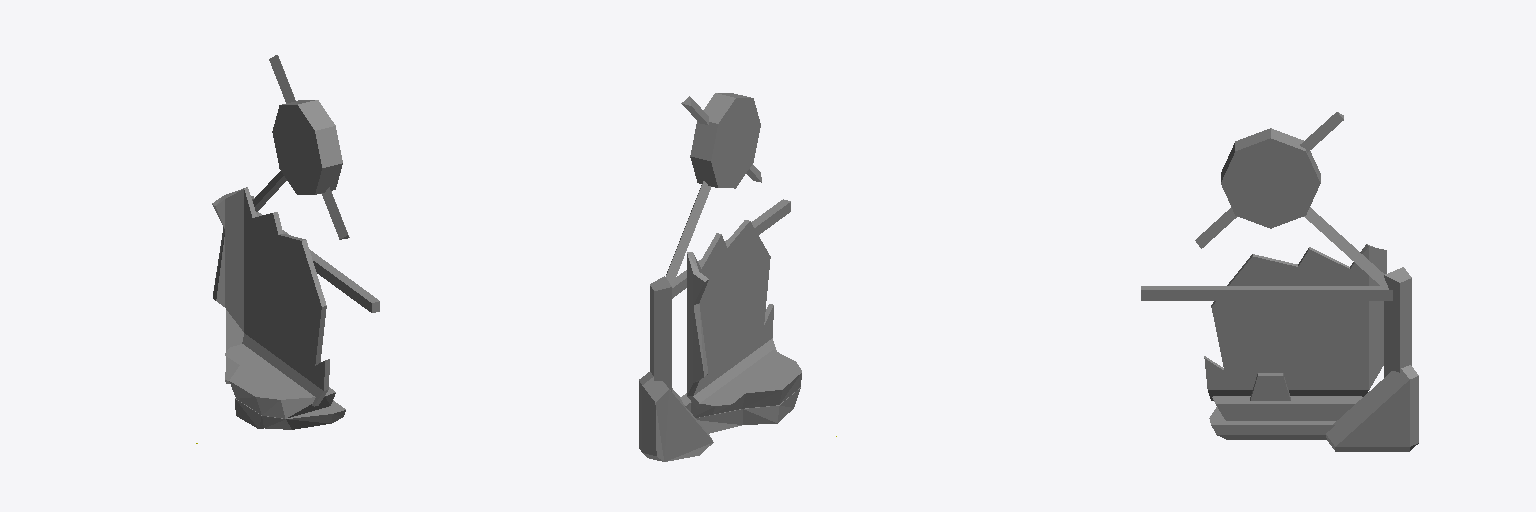
The model's file is cpz_obj_breakboxtall_brk_002.obj.
3 views of the same model, side by side, from view 1: azimuth 30°, elevation 25°; view 2: azimuth 150°, elevation 25°; view 3: azimuth 270°, elevation 25° (orthographic).
Parts seen in each view (by area): view 1: cpz_glass_tn1_glasstube, cpz_metal_yy_slop_cmn_dpn, cpz_yy1_road_cmn_dp; view 2: cpz_metal_yy_slop_cmn_dpn, cpz_glass_tn1_glasstube, cpz_yy1_road_cmn_dp, cpz_metal_st1_tank01_cmn_dpnE; view 3: cpz_glass_tn1_glasstube, cpz_metal_yy_slop_cmn_dpn, cpz_yy1_road_cmn_dp, ccp_metal_yy_circle_Cmn_dpn, ccp_metal_yy_yelow_Cmn_dpn, cpz_metal_st1_tank01_cmn_dpnE.
Part boxes in pixels (bbox=[...]): cpz_glass_tn1_glasstube: bbox=[212, 187, 329, 406]; cpz_metal_yy_slop_cmn_dpn: bbox=[225, 105, 348, 429]; cpz_yy1_road_cmn_dp: bbox=[253, 55, 379, 312]; cpz_metal_yy_slop_cmn_dpn: bbox=[639, 96, 801, 461]; cpz_glass_tn1_glasstube: bbox=[687, 220, 776, 408]; cpz_yy1_road_cmn_dp: bbox=[650, 93, 790, 391]; cpz_metal_st1_tank01_cmn_dpnE: bbox=[650, 286, 671, 365]; cpz_glass_tn1_glasstube: bbox=[1204, 244, 1386, 400]; cpz_metal_yy_slop_cmn_dpn: bbox=[1209, 112, 1418, 451]; cpz_yy1_road_cmn_dp: bbox=[1141, 112, 1411, 377]; ccp_metal_yy_circle_Cmn_dpn: bbox=[1221, 138, 1320, 228]; ccp_metal_yy_yelow_Cmn_dpn: bbox=[1212, 397, 1362, 420]; cpz_metal_st1_tank01_cmn_dpnE: bbox=[1250, 275, 1411, 400].
Bounding box in the file's own units: 36 × 90.17 × 67.36.